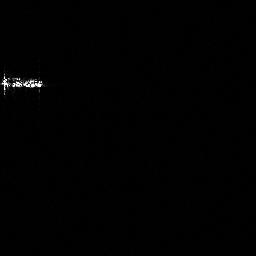ship: (1, 69, 46, 95)
